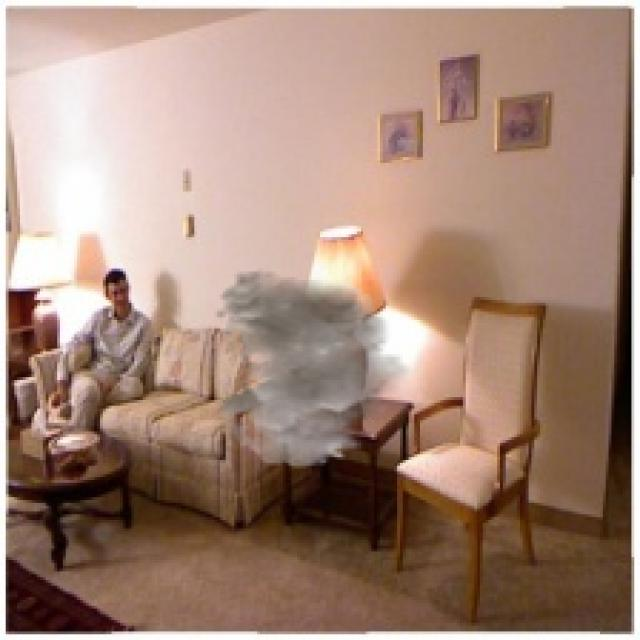smoke: (214, 268, 414, 468)
